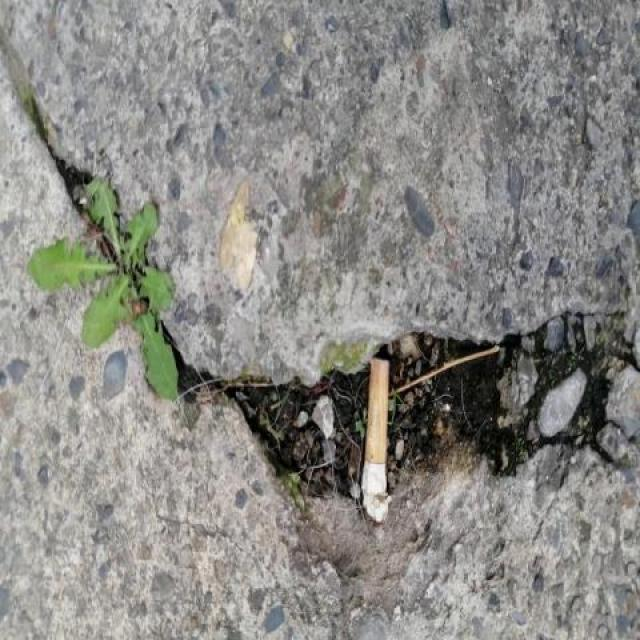non-organic waste: (352, 344, 404, 504)
